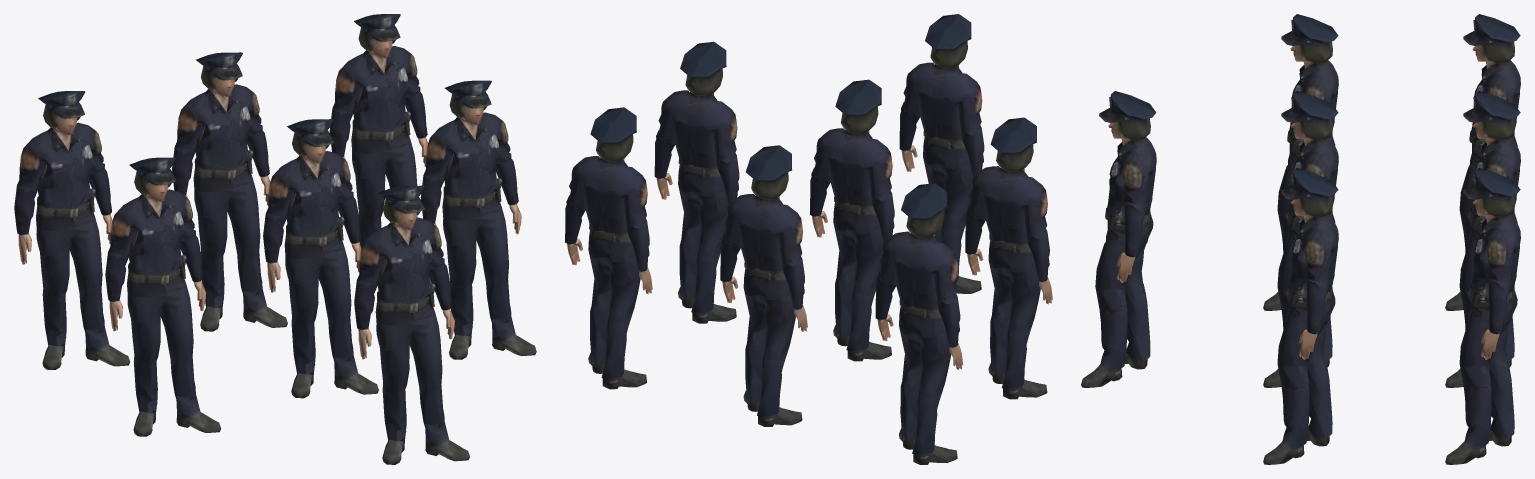
The model's file is parade_usa_idle_lod2.glb.
The picture shows the model from 3 angles, left to right: view 1: azimuth 30°, elevation 25°; view 2: azimuth 150°, elevation 25°; view 3: azimuth 270°, elevation 25°; orthographic projection.
Parts seen in each view (by area): view 1: tripo_node_f0e8774b-4e28-4a62-98a9-9e8da42cc3b5; view 2: tripo_node_f0e8774b-4e28-4a62-98a9-9e8da42cc3b5; view 3: tripo_node_f0e8774b-4e28-4a62-98a9-9e8da42cc3b5.
Boxes of the visible parts, x1=… form: tripo_node_f0e8774b-4e28-4a62-98a9-9e8da42cc3b5: x1=14, y1=14, x2=536, y2=464; tripo_node_f0e8774b-4e28-4a62-98a9-9e8da42cc3b5: x1=565, y1=14, x2=1052, y2=464; tripo_node_f0e8774b-4e28-4a62-98a9-9e8da42cc3b5: x1=1081, y1=14, x2=1520, y2=464.
Size of the model in its own units: 1.54 by 0.9962 by 1.45.
Materials: 1 (1 with a texture image).
